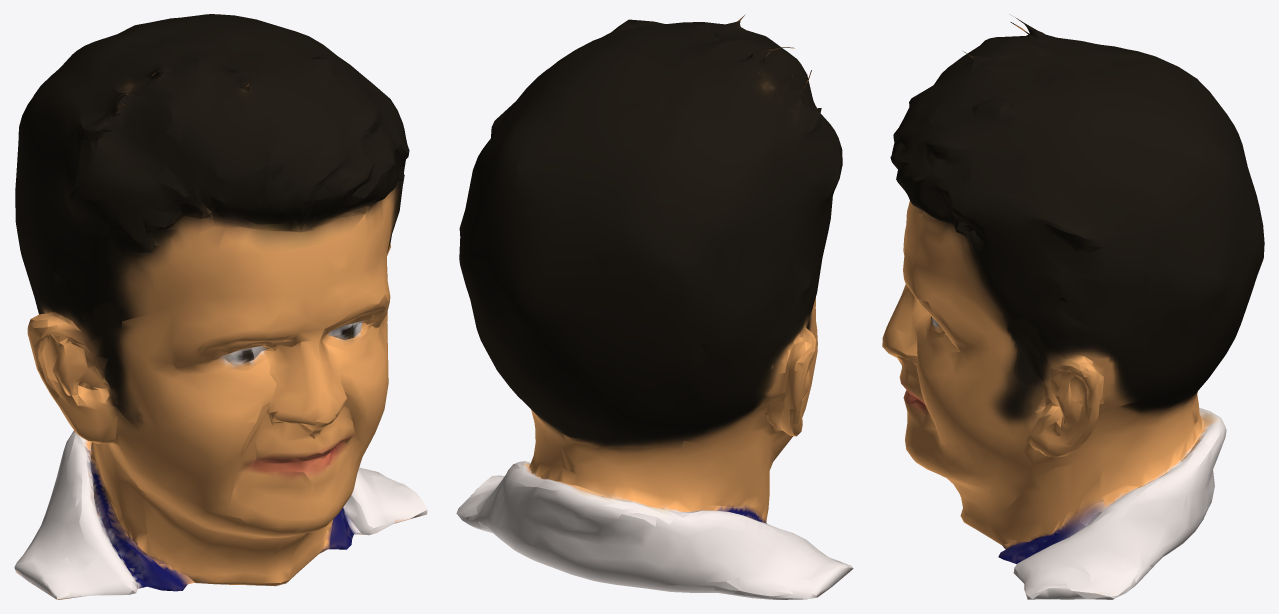
Rendered from fropy_low_poly.obj.
3 renders of one model, left to right at view 1: azimuth 30°, elevation 25°; view 2: azimuth 150°, elevation 25°; view 3: azimuth 270°, elevation 25°, orthographic. The views are drawn at different scales.
Parts seen in each view (by area): view 1: white_mesh; view 2: white_mesh; view 3: white_mesh.
Part boxes in pixels (bbox=[...]): white_mesh: bbox=[14, 14, 427, 599]; white_mesh: bbox=[456, 14, 853, 599]; white_mesh: bbox=[882, 14, 1264, 599].
Bounding box in the file's own units: 1.46 × 1.93 × 1.45.
1 material, 1 textured.
